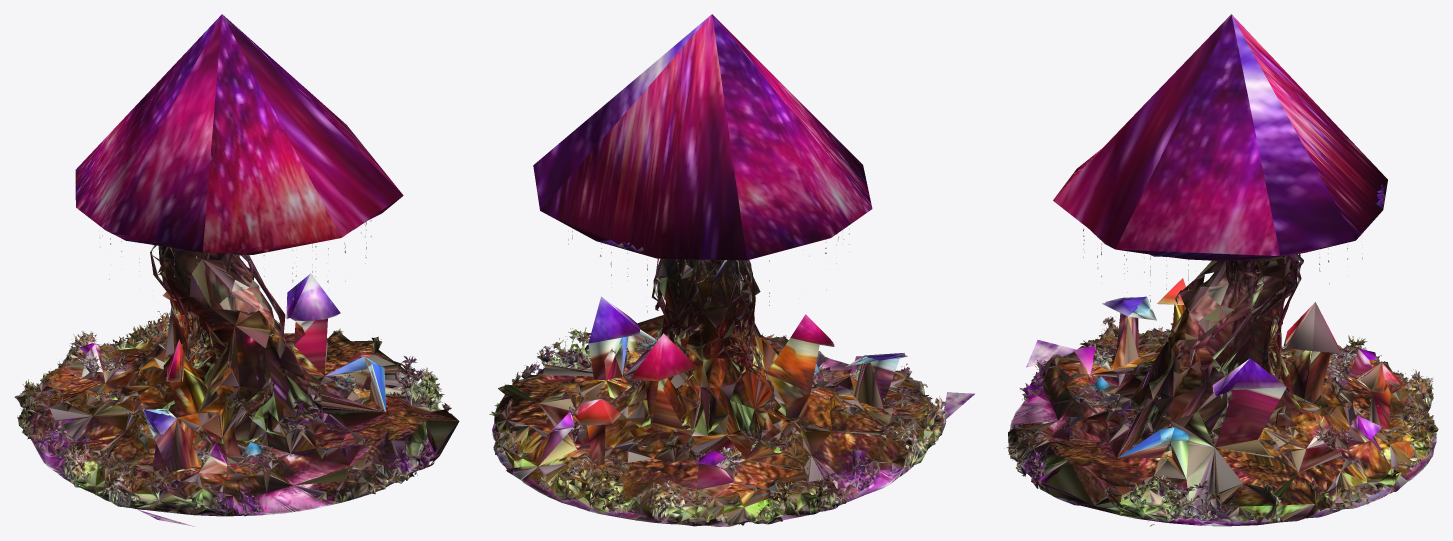
The model's file is Luminescent_Mushroom_.glb.
The picture shows the model from 3 angles, left to right: view 1: azimuth 30°, elevation 25°; view 2: azimuth 150°, elevation 25°; view 3: azimuth 270°, elevation 25°; orthographic projection. The views are drawn at different scales.
Parts seen in each view (by area): view 1: Luminescent_Mushroom_; view 2: Luminescent_Mushroom_; view 3: Luminescent_Mushroom_.
Boxes of the visible parts, <box> form: Luminescent_Mushroom_: <box>14,14,459,526</box>; Luminescent_Mushroom_: <box>489,14,974,526</box>; Luminescent_Mushroom_: <box>1004,14,1438,526</box>.
Size of the model in its own units: 1.89 by 2 by 1.88.
1 material, 1 textured.
